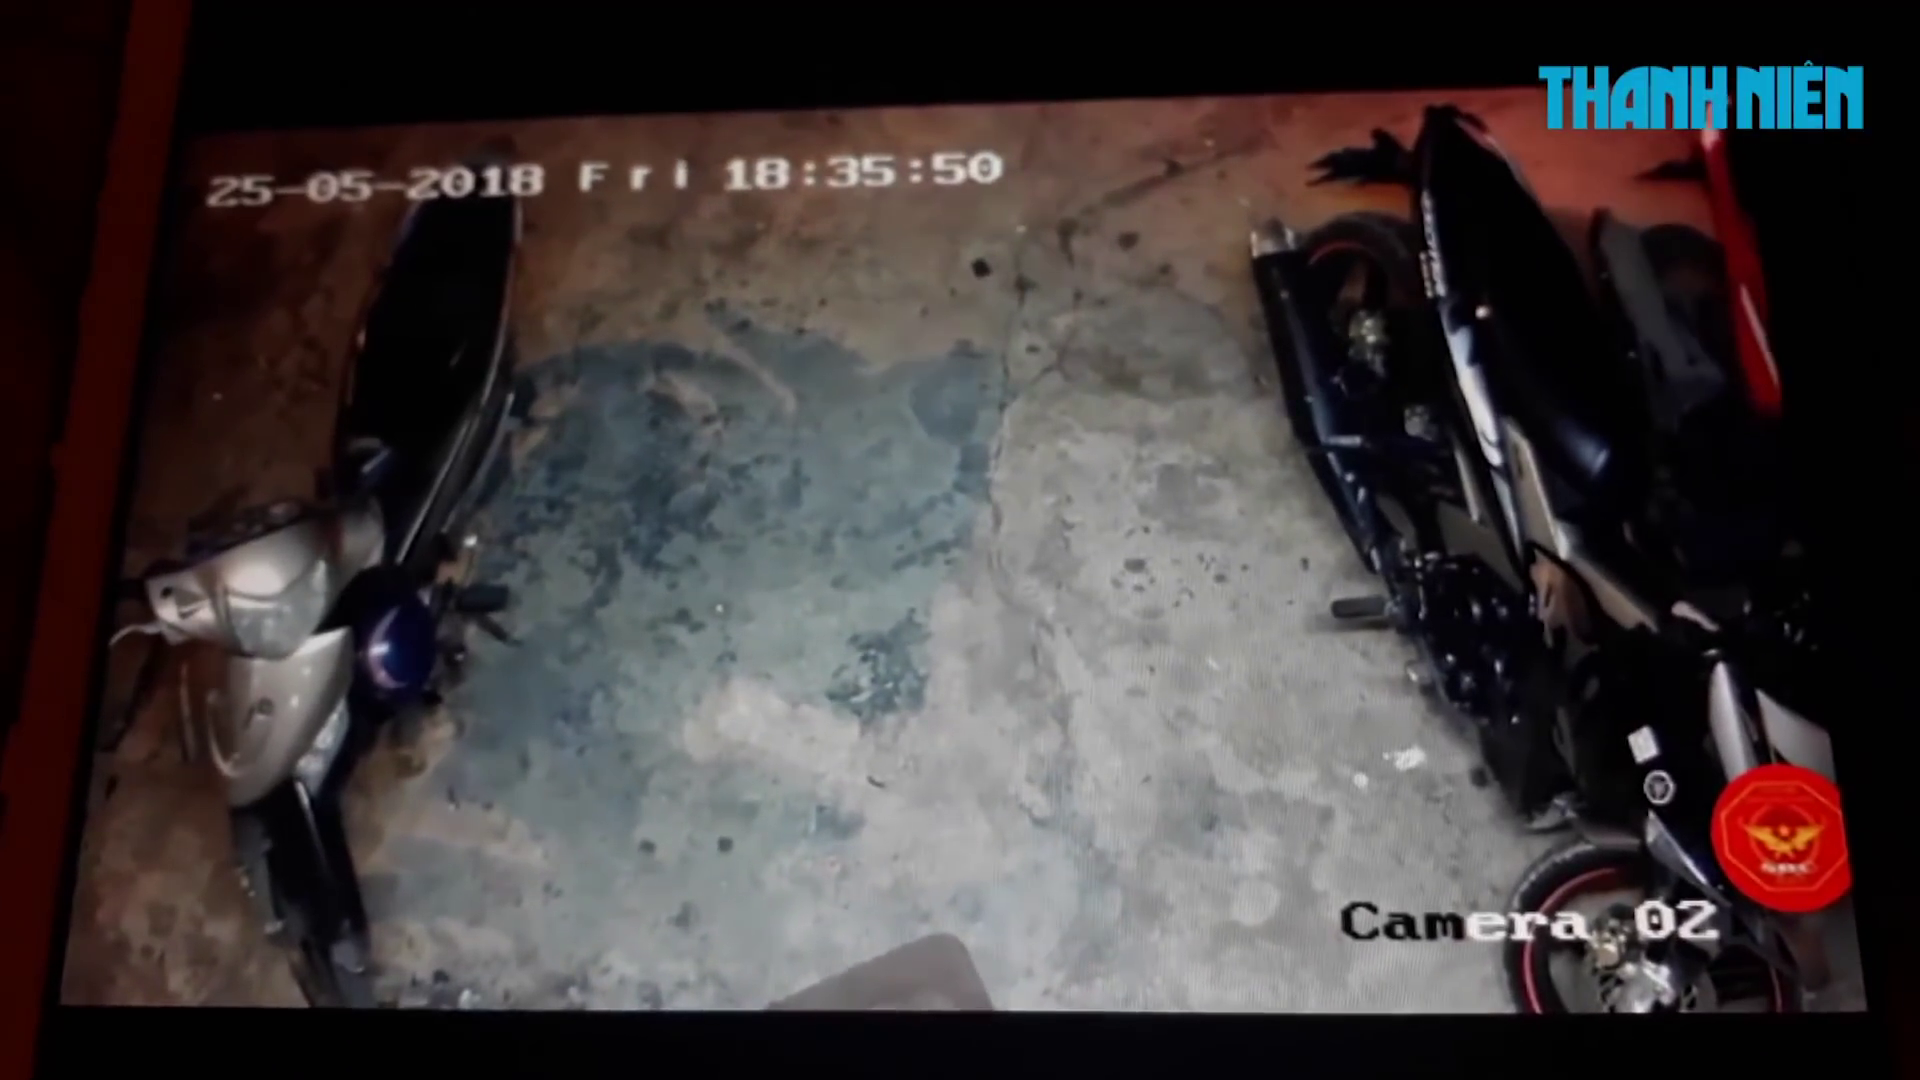Motorcycle: (1249, 107, 1876, 1025)
